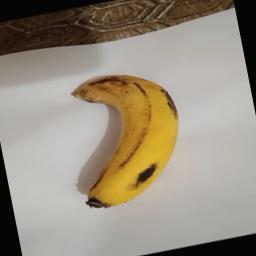Banana Unripe: (54, 58, 196, 212)
